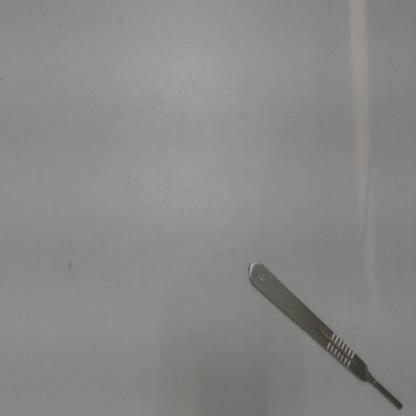No.4 BP Handle: (240, 237, 406, 411)
